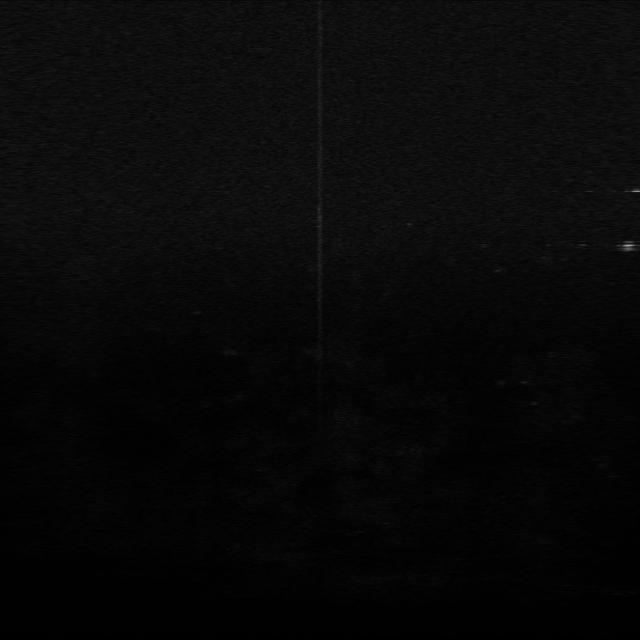rov: (616, 236, 638, 256)
